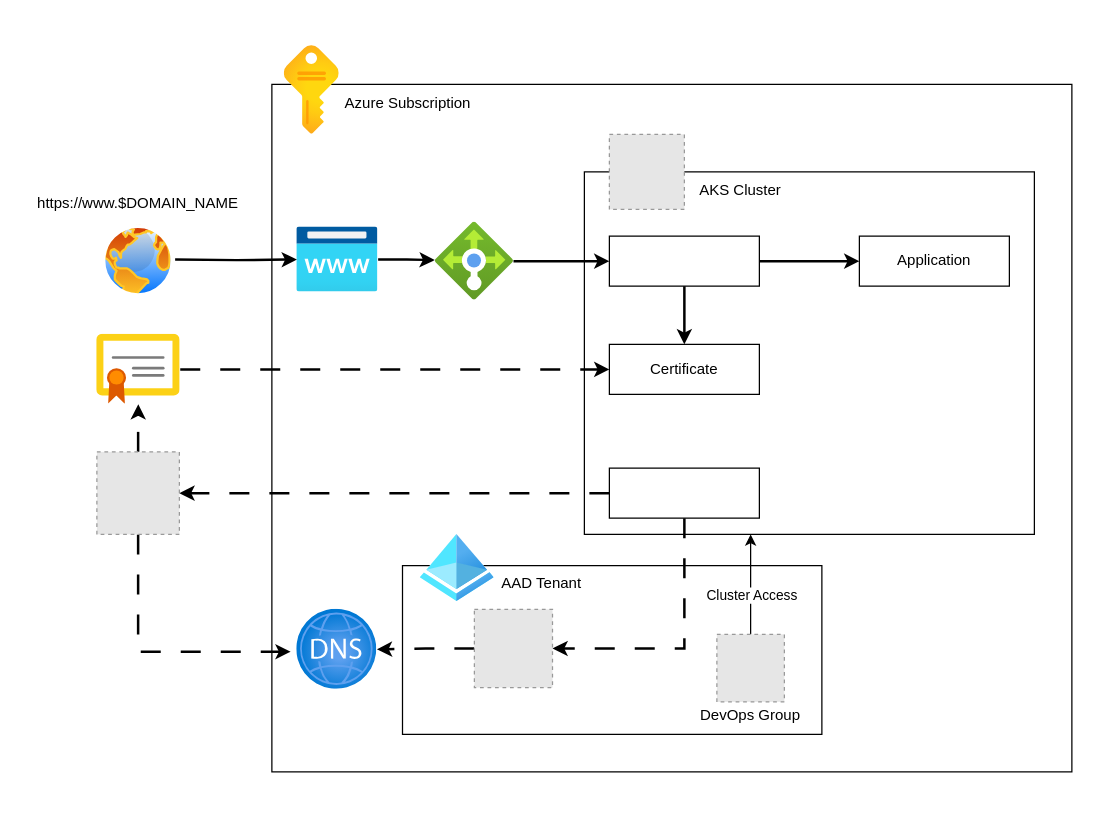
Image size: 1118x818. Some labels were removed from this diagram. Grey dashed boxes stand in for pictures. The centre of each missing label's shape, as x and y in pixels:
"Cert Manager" belongs at (x=683, y=492).
"Service Ingress" belongs at (x=683, y=260).
